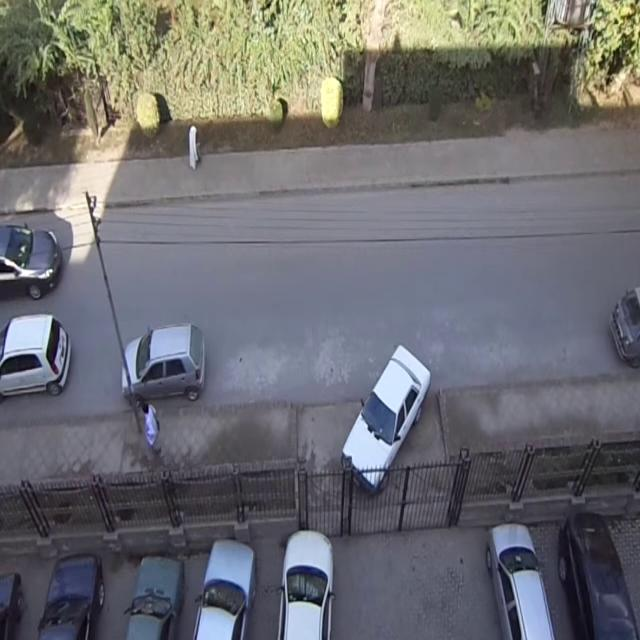person: (141, 401, 163, 459), (188, 126, 200, 171)
